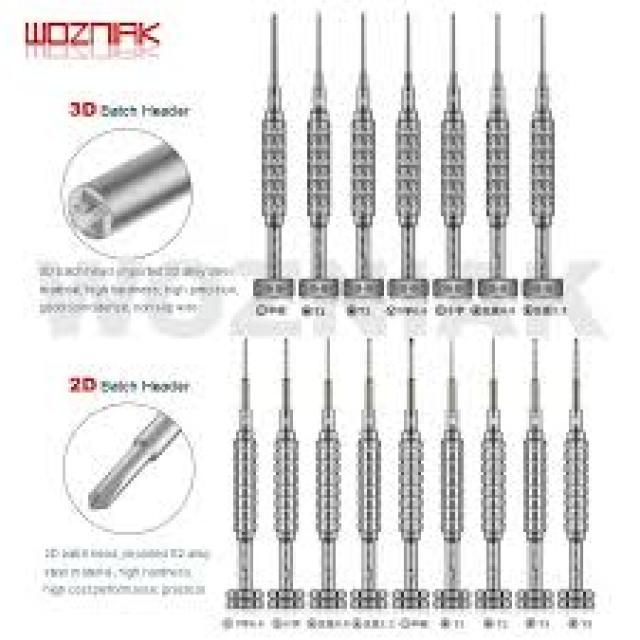screwdriver: (246, 4, 300, 303), (523, 9, 572, 298), (341, 10, 387, 303), (390, 10, 436, 303), (298, 8, 342, 302), (263, 336, 309, 614), (431, 334, 476, 616), (435, 8, 478, 302), (479, 8, 522, 298), (224, 334, 268, 616), (392, 336, 436, 612), (348, 337, 392, 613), (476, 332, 514, 618), (310, 337, 347, 613), (514, 336, 550, 618), (558, 334, 594, 610)
